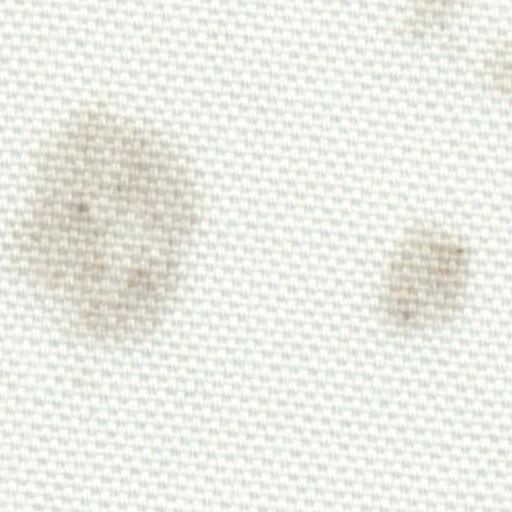WuZi: (12, 90, 228, 358), (348, 195, 484, 342), (380, 6, 508, 107)
